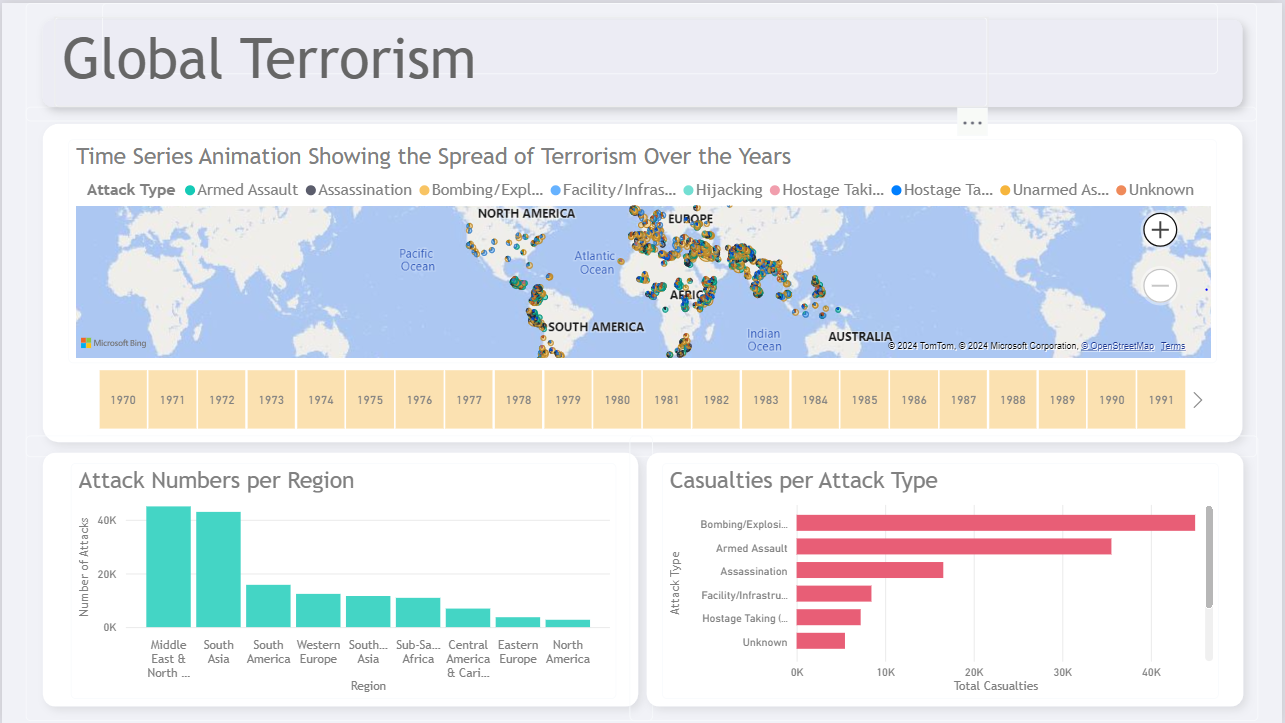

The dashboard page shown, as its layout file describes it:
{"tool":"powerbi","page":{"name":"P2","canvas":[1280,720],"ordinal":1},"visuals":[{"type":"shape","box":[24.3,104.3,1231.4,350],"z":0},{"type":"map","title":"Time Series Animation Showing the Spread of Terrorism Over the Years","fields":{"Y":["GBT_cleaned.Latitude"],"Series":["GBT_cleaned.Attack Type"],"X":["GBT_cleaned.Longitude"],"Size":["CountNonNull(GBT_cleaned.Casualties)"]},"box":[65.7,135.7,1148.6,224.3],"z":1000},{"type":"slicer","title":"Filter by Year","fields":{"Values":["GBT_cleaned.Year"]},"box":[71.4,360,1135.7,72.9],"z":2000},{"type":"shape","box":[24.3,432.9,627.1,285.7],"z":3000},{"type":"columnChart","title":"Attack Numbers per Region","fields":{"Category":["GBT_cleaned.Region"],"Y":["CountNonNull(GBT_cleaned.Region)"]},"box":[68.6,460,545.7,235.7],"z":4000},{"type":"shape","box":[627.1,432.9,628.6,285.7],"z":5000},{"type":"clusteredBarChart","title":"Casualties per Attack Type","fields":{"Category":["GBT_cleaned.Attack Type"],"Y":["CountNonNull(GBT_cleaned.Casualties)"]},"box":[660,460,557.1,235.7],"z":6000},{"type":"shape","box":[24.3,0,1231.4,118.6],"z":7000},{"type":"textbox","box":[100,0,1115.7,71.4],"z":8000},{"type":"textbox","box":[52.9,14.3,932.9,90],"z":9000}]}

Visuals, with their boxes in screenshot pixels (x1, y1, x2, y2), scaled from the page's 1280x720 canvas onto the 1285x723 screenshot:
shape: left=24, top=105, right=1261, bottom=456
"Time Series Animation Showing the Spread of Terrorism Over the Years" map: left=66, top=136, right=1219, bottom=362
"Filter by Year" slicer: left=72, top=362, right=1212, bottom=435
shape: left=24, top=435, right=654, bottom=722
"Attack Numbers per Region" columnChart: left=69, top=462, right=617, bottom=699
shape: left=630, top=435, right=1261, bottom=722
"Casualties per Attack Type" clusteredBarChart: left=663, top=462, right=1222, bottom=699
shape: left=24, top=0, right=1261, bottom=119
textbox: left=100, top=0, right=1220, bottom=72
textbox: left=53, top=14, right=990, bottom=105
